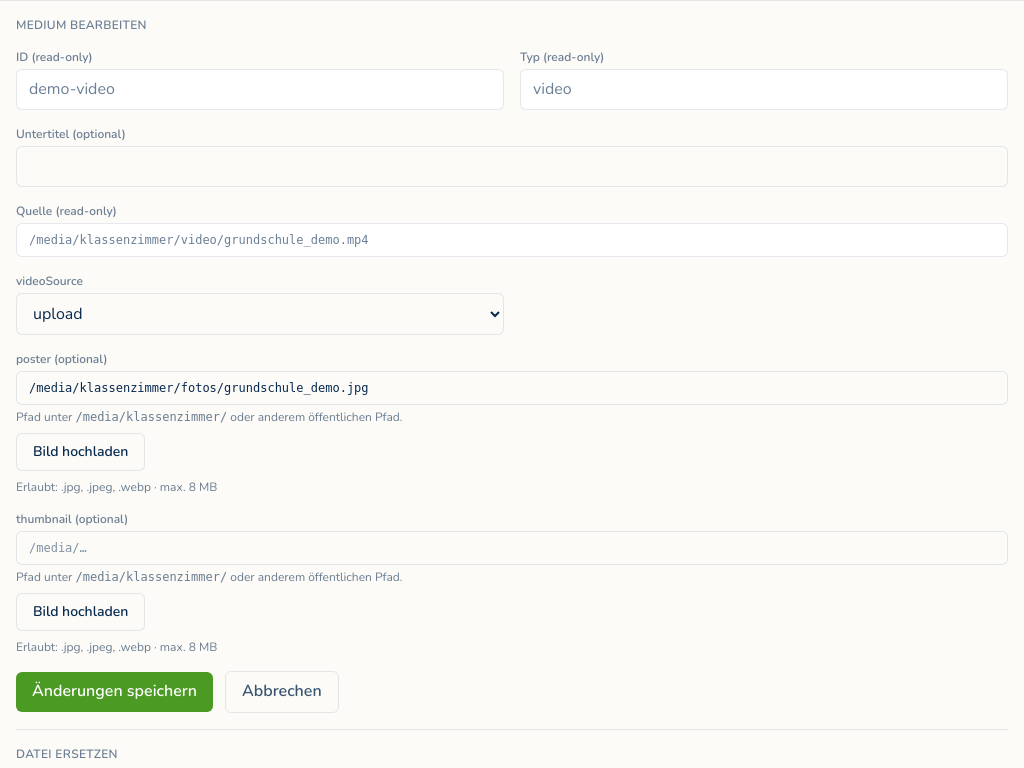
Test: StationMediumEditForm — Datei ersetzen › Video upload: Dropdown auf youtube blendet Block aus
Select "youtube" in the dropdown labelled "videoSource" at (260, 314), box x1=16 y1=293 x2=504 y2=335
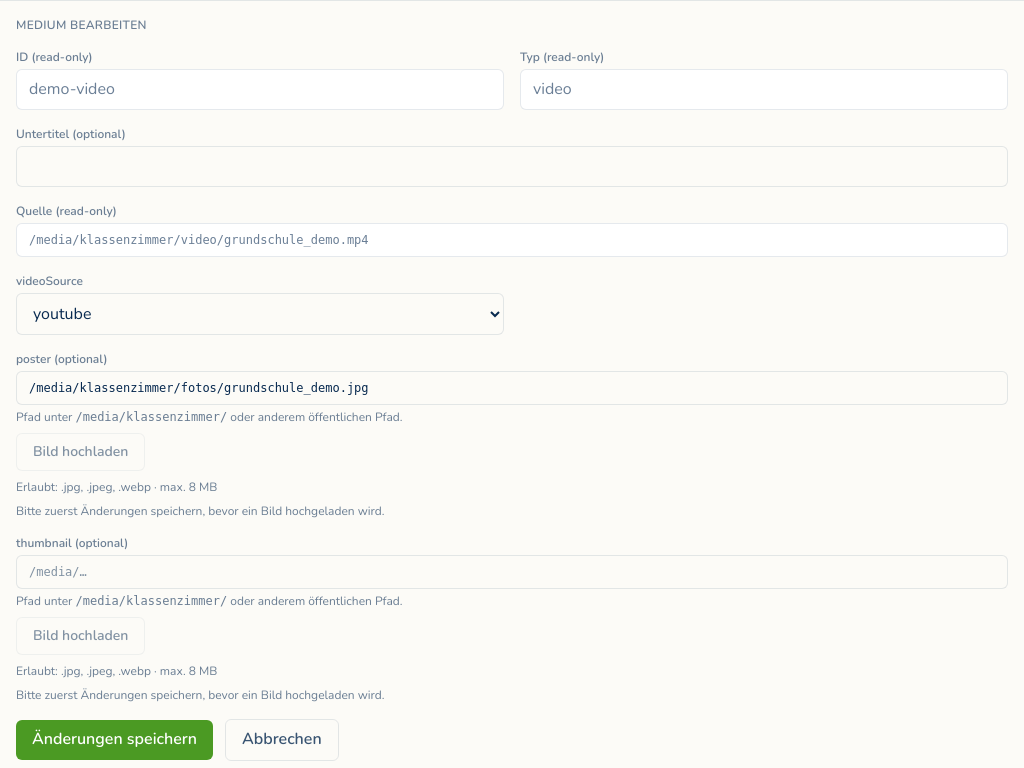
expect the text "Datei ersetzen" is gone: met
